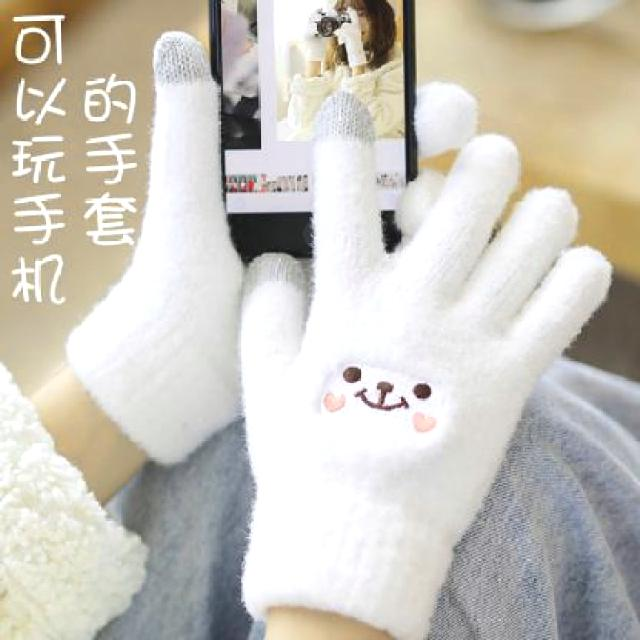hand_glove: (235, 100, 613, 540), (131, 31, 252, 414)
